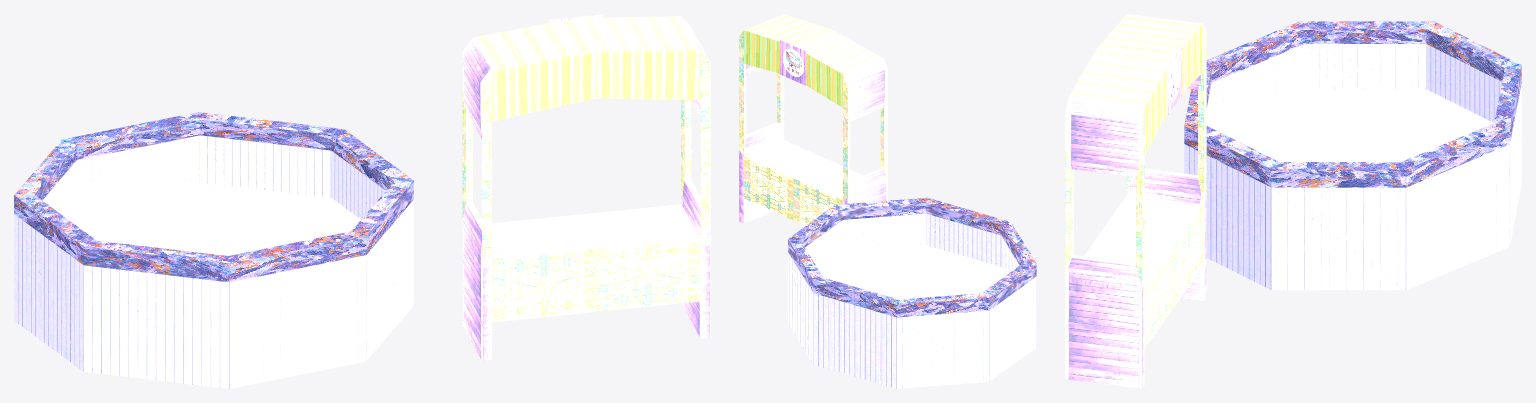
The model's file is fish_stall_v2.glb.
3 views of the same model, side by side, from view 1: azimuth 30°, elevation 25°; view 2: azimuth 150°, elevation 25°; view 3: azimuth 270°, elevation 25° (orthographic). The views are drawn at different scales.
Visible parts, largest first — view 1: Cooler, FishStall, FishPackage_2, FishPackage_1, FishPackage_4; view 2: Cooler, FishStall, FishPackage_3, FishPackage_1; view 3: Cooler, FishStall, FishPackage_3, FishPackage_4, FishPackage_2.
Part boxes in pixels (x1,y1,x2,y2): Cooler: [14, 112, 413, 388]; FishStall: [462, 14, 710, 360]; FishPackage_2: [163, 195, 251, 229]; FishPackage_1: [260, 223, 343, 248]; FishPackage_4: [92, 230, 165, 248]; Cooler: [788, 197, 1036, 388]; FishStall: [739, 14, 887, 225]; FishPackage_3: [932, 261, 976, 291]; FishPackage_1: [859, 251, 897, 281]; Cooler: [1184, 21, 1521, 290]; FishStall: [1065, 14, 1206, 388]; FishPackage_3: [1241, 114, 1330, 157]; FishPackage_4: [1360, 92, 1416, 135]; FishPackage_2: [1384, 139, 1441, 162].
Size of the model in its own units: 8.77 by 4.76 by 6.85.
11 materials, 1 textured.
